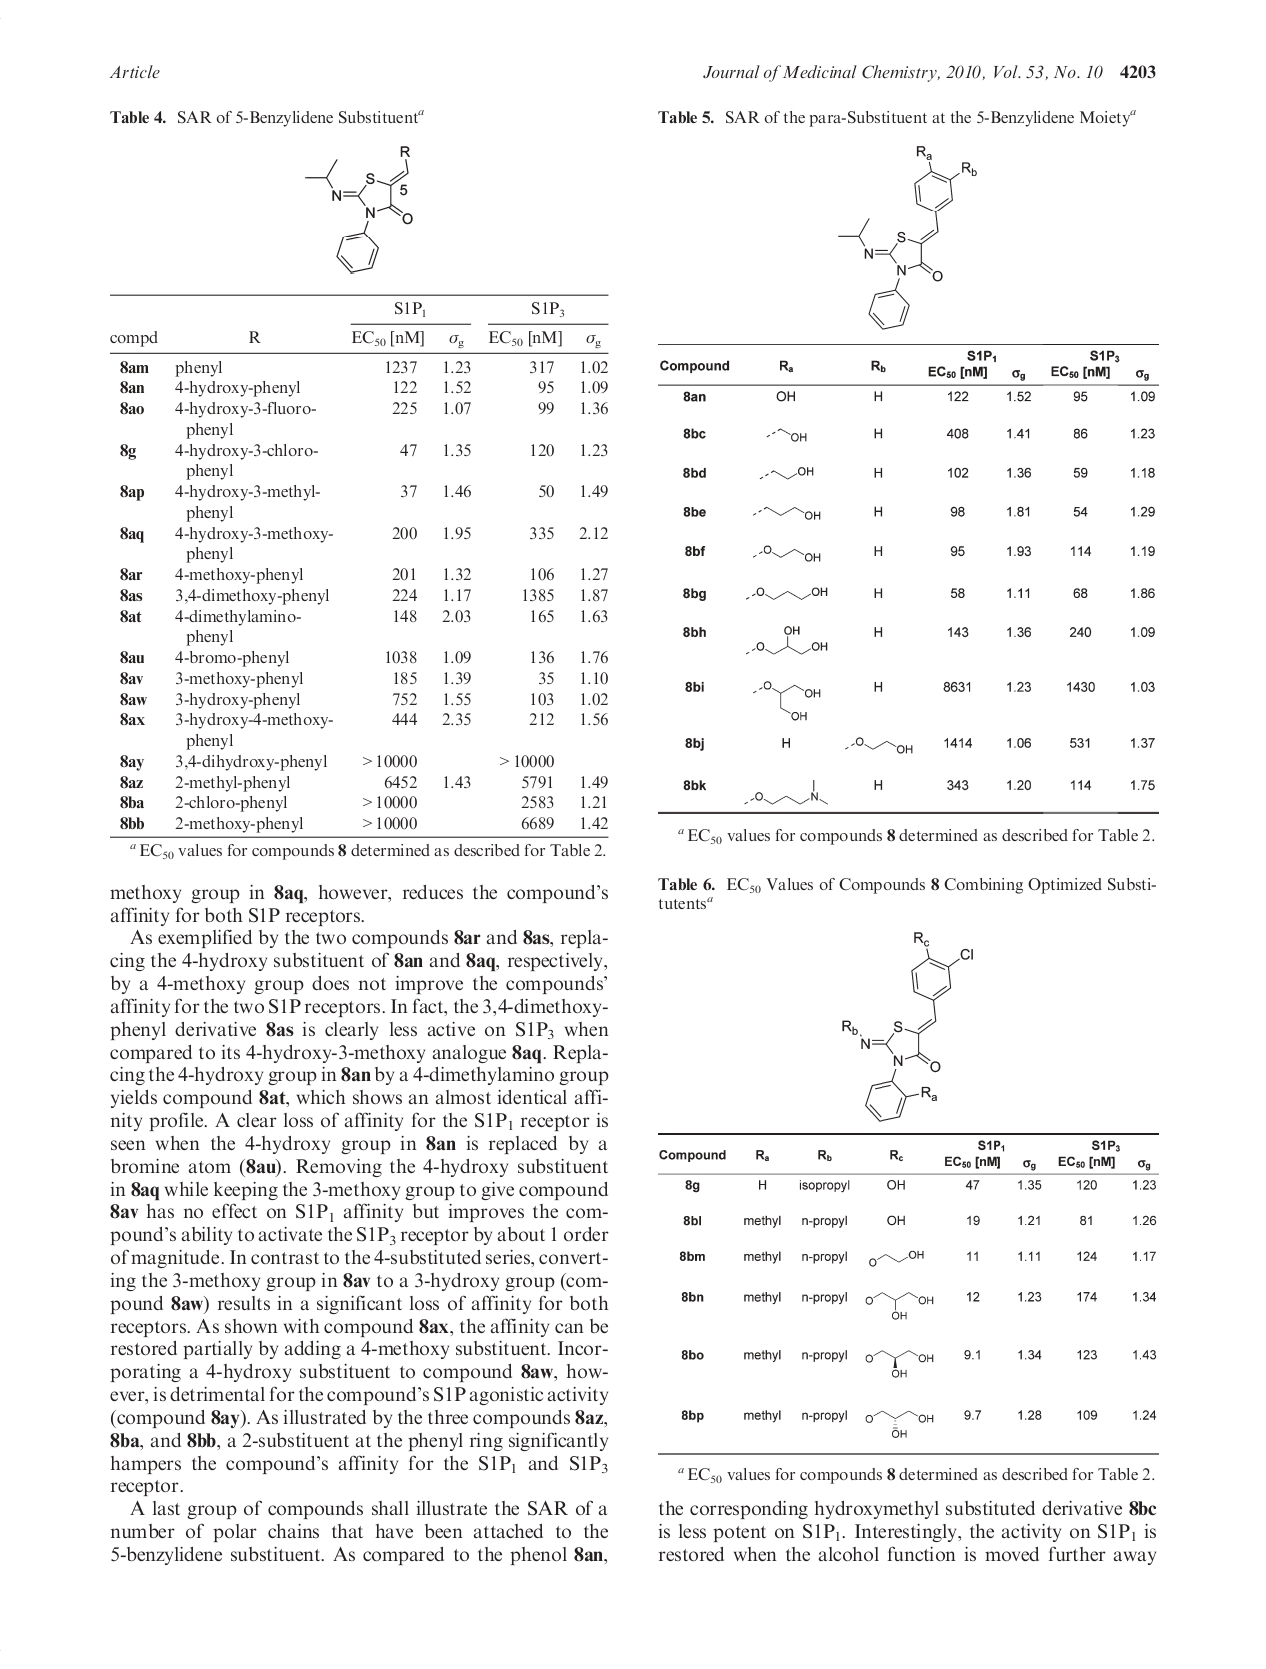exist_molecular: (835, 140, 996, 334), (842, 914, 987, 1126), (306, 132, 422, 279), (749, 672, 832, 722), (743, 620, 839, 660), (737, 573, 835, 610), (860, 1342, 940, 1383), (739, 778, 832, 809), (743, 539, 835, 569), (860, 1289, 953, 1318), (864, 1408, 943, 1443), (743, 501, 836, 527), (860, 1241, 934, 1271), (840, 735, 922, 762), (754, 460, 819, 491), (762, 423, 813, 447)
